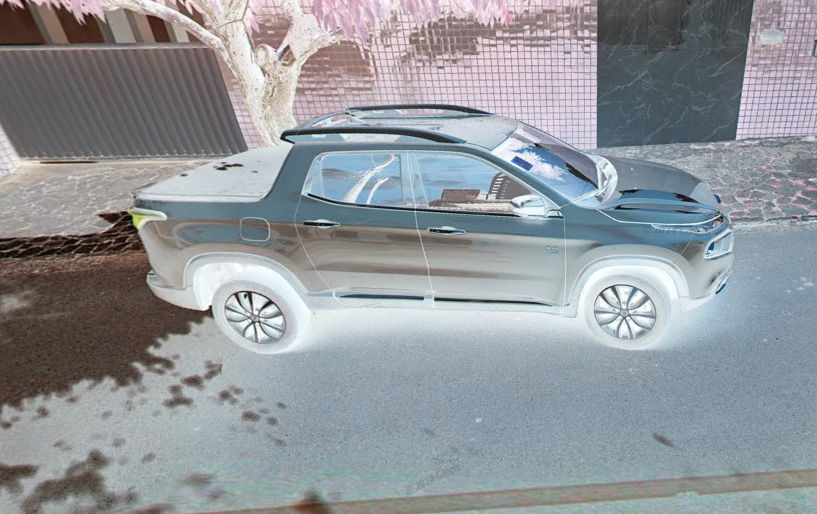car: (126, 97, 740, 352)
